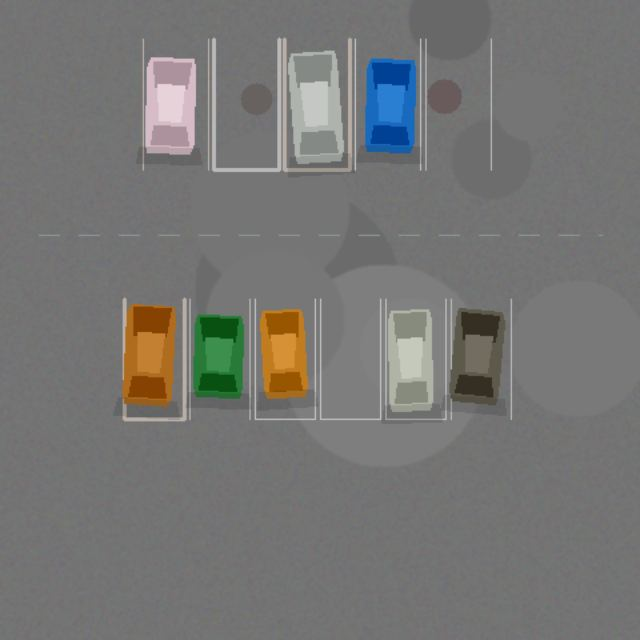space-empty: (213, 39, 279, 169), (425, 39, 491, 169), (320, 299, 380, 419)
space-occupied: (143, 39, 208, 169), (284, 39, 349, 169), (355, 39, 420, 169), (124, 299, 184, 419), (189, 299, 249, 419), (255, 299, 315, 419), (385, 299, 445, 419), (451, 299, 511, 419)
